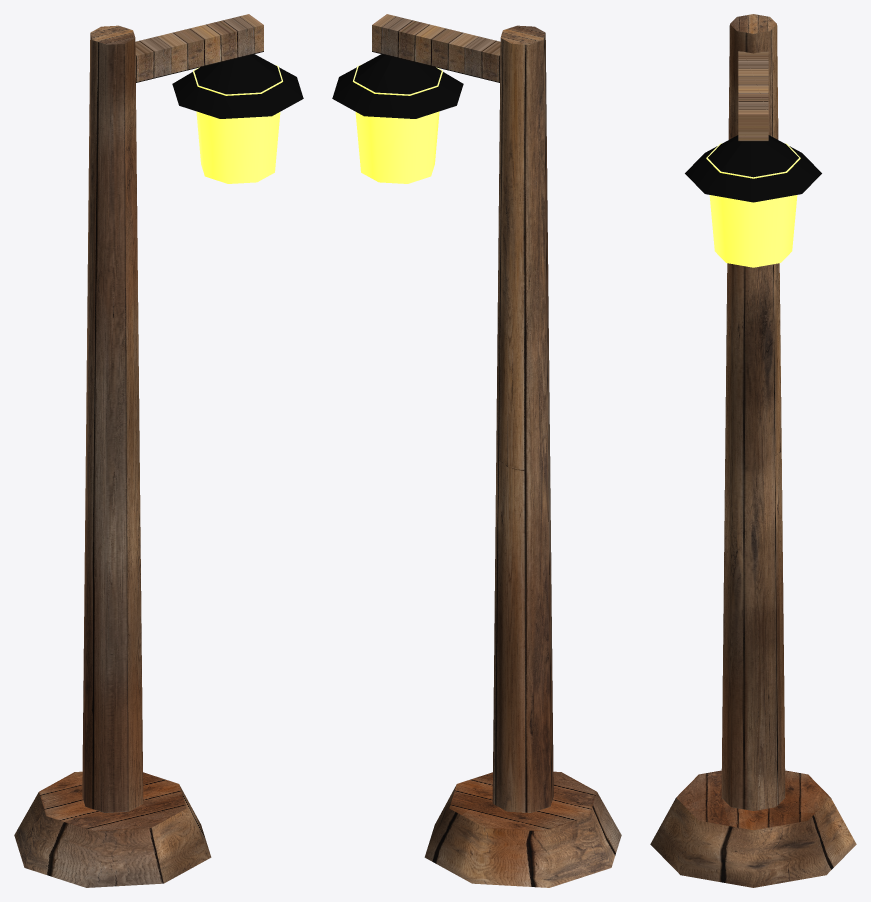
Rendered from Lantern_Post.glb.
3 renders of one model, left to right at view 1: azimuth 30°, elevation 25°; view 2: azimuth 150°, elevation 25°; view 3: azimuth 270°, elevation 25°, orthographic.
Parts seen in each view (by area): view 1: Cross_Arm; view 2: Cross_Arm; view 3: Cross_Arm.
Part boxes in pixels (bbox=[...]): Cross_Arm: bbox=[14, 14, 303, 887]; Cross_Arm: bbox=[332, 14, 621, 887]; Cross_Arm: bbox=[650, 14, 856, 887].
Size of the model in its own units: 0.74 by 2.11 by 0.48.
Materials: 4 (3 with a texture image).
